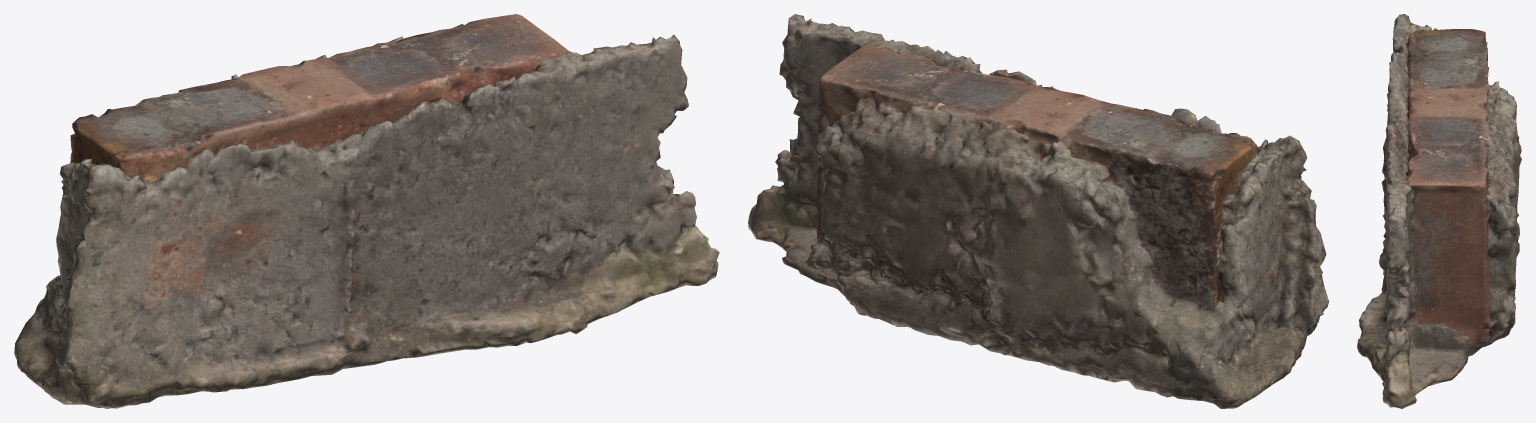
Rendered from PX_Brick_Ruins_20_LOD2.fbx.
3 views of the same model, side by side, from view 1: azimuth 30°, elevation 25°; view 2: azimuth 150°, elevation 25°; view 3: azimuth 270°, elevation 25° (orthographic). The views are drawn at different scales.
Parts seen in each view (by area): view 1: PX_Brick_Ruins_20_LOD2; view 2: PX_Brick_Ruins_20_LOD2; view 3: PX_Brick_Ruins_20_LOD2.
Boxes of the visible parts, x1,y1,x2,y2 form: PX_Brick_Ruins_20_LOD2: (14, 14, 719, 408); PX_Brick_Ruins_20_LOD2: (748, 14, 1328, 408); PX_Brick_Ruins_20_LOD2: (1357, 14, 1521, 408).
Bounding box in the file's own units: 38.77 × 14.55 × 11.89.
